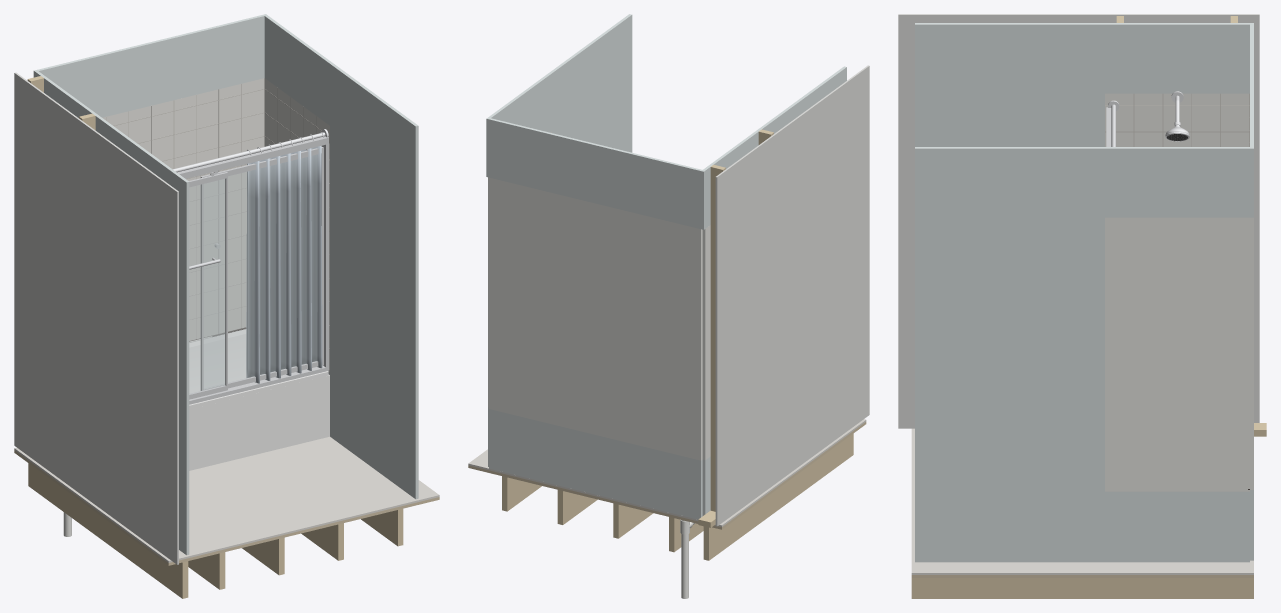
File: shower.glb
3 renders of one model, left to right at view 1: azimuth 30°, elevation 25°; view 2: azimuth 150°, elevation 25°; view 3: azimuth 270°, elevation 25°, orthographic. The views are drawn at different scales.
Visible parts, largest first — view 1: wall_outside, walls_paint, door_glass, floor, wall_back, shower_curtain, glass_doors, tub_apron, joists, tub, wall_right, curtain_rod; view 2: wall_outside, wall_back, walls_paint, joists, framing, floor, valve_wall; view 3: walls_paint, wall_right, wall_outside, joists, valve_wall, floor, wall_back.
Part boxes in pixels (x1,y1,x2,y2): wall_outside: (14, 72, 178, 564); walls_paint: (33, 14, 418, 555); door_glass: (200, 147, 323, 390); floor: (14, 436, 439, 565); wall_back: (102, 78, 264, 340); shower_curtain: (246, 146, 322, 383); glass_doors: (177, 136, 329, 404); tub_apron: (189, 374, 329, 470); joists: (28, 463, 403, 598); tub: (189, 329, 328, 409); wall_right: (264, 78, 329, 372); curtain_rod: (173, 129, 328, 172); wall_outside: (715, 65, 869, 526); wall_back: (489, 177, 702, 460); walls_paint: (486, 14, 846, 519); joists: (502, 433, 853, 560); framing: (698, 129, 773, 527); floor: (468, 419, 866, 529); valve_wall: (702, 225, 710, 459); walls_paint: (915, 23, 1253, 562); wall_right: (1105, 217, 1249, 491); wall_outside: (898, 14, 1259, 428); joists: (911, 578, 1253, 598); valve_wall: (1105, 93, 1249, 146); floor: (911, 428, 1253, 577); wall_back: (1249, 106, 1253, 489).
Size of the model in its own units: 1.82 by 3 by 1.94.
